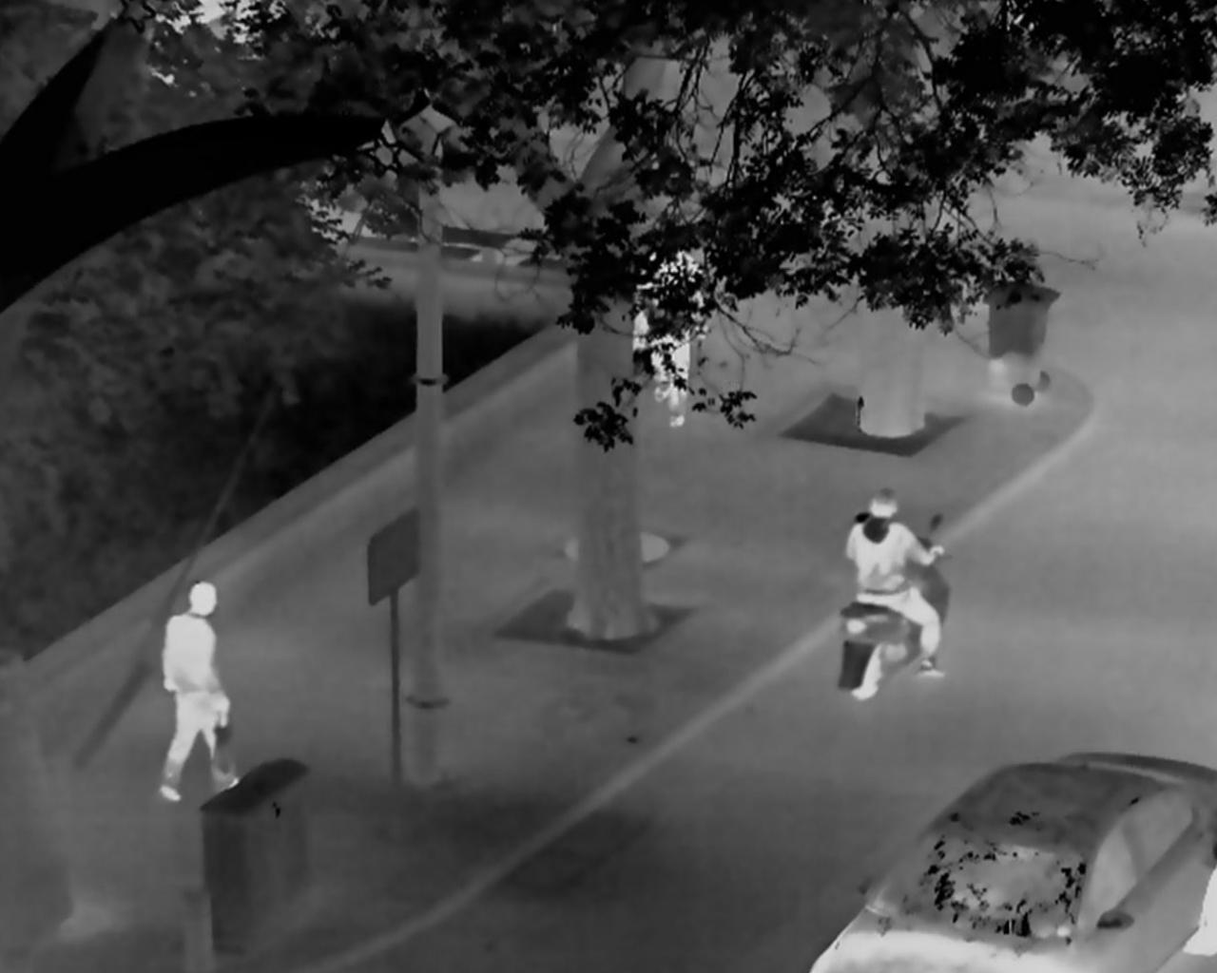person: (844, 487, 948, 678), (160, 580, 239, 802), (636, 238, 706, 426)
